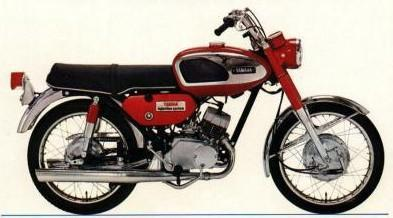motorcycle: (7, 7, 393, 218)
